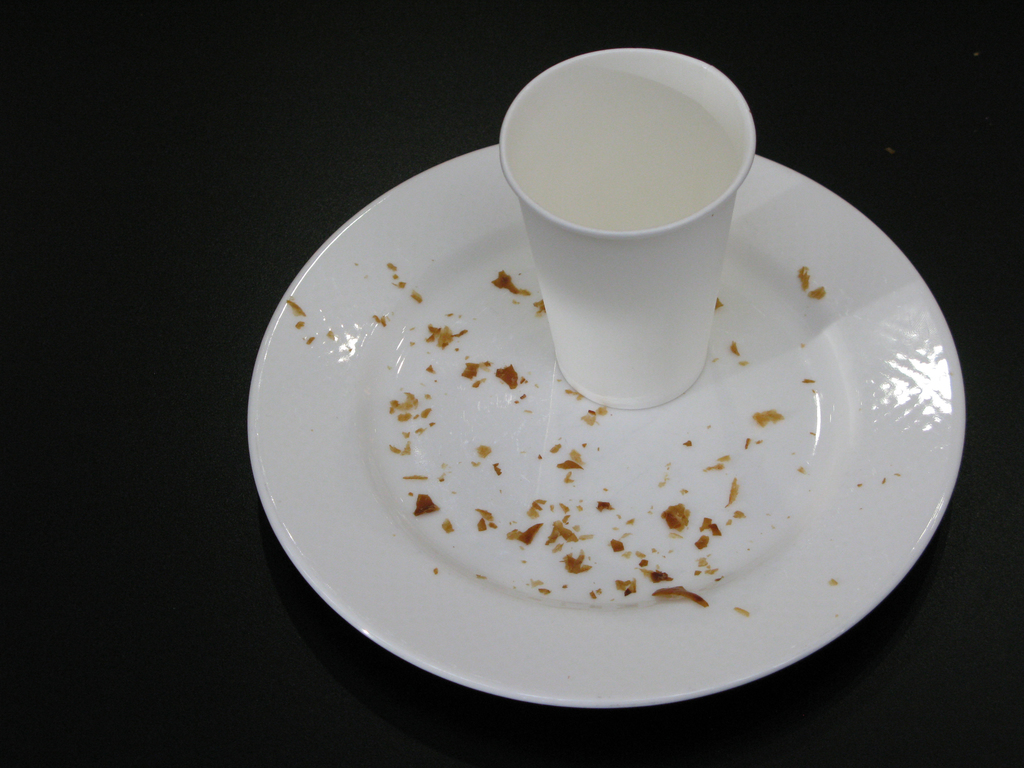plate: (247, 37, 964, 709)
